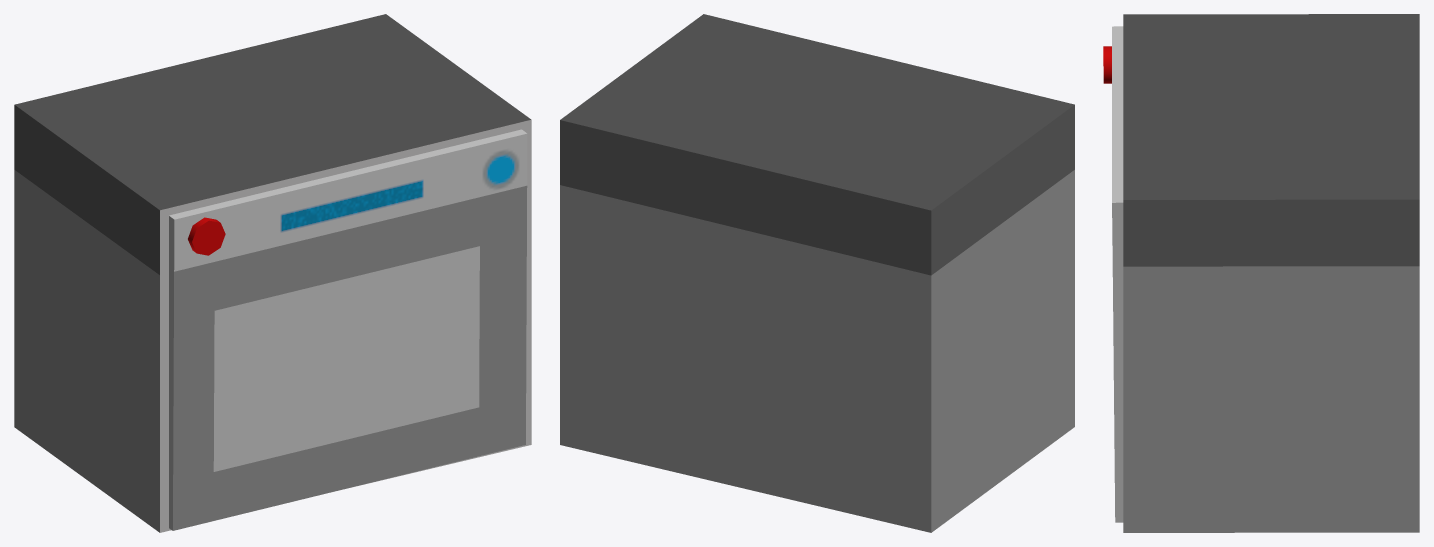
Rendered from Dishwasher_Machine1.fbx.
3 views of the same model, side by side, from view 1: azimuth 30°, elevation 25°; view 2: azimuth 150°, elevation 25°; view 3: azimuth 270°, elevation 25° (orthographic). The views are drawn at different scales.
Parts seen in each view (by area): view 1: Dishwasher_Door, Dishwasher_Machine; view 2: Dishwasher_Machine; view 3: Dishwasher_Machine, Dishwasher_Door.
Boxes of the visible parts, left/top/right/bottom form: Dishwasher_Door: left=169, top=129, right=527, bottom=530; Dishwasher_Machine: left=14, top=14, right=531, bottom=532; Dishwasher_Machine: left=560, top=14, right=1074, bottom=532; Dishwasher_Machine: left=1123, top=14, right=1419, bottom=532; Dishwasher_Door: left=1103, top=26, right=1123, bottom=522.
Size of the model in its own units: 100 by 83.64 by 72.
